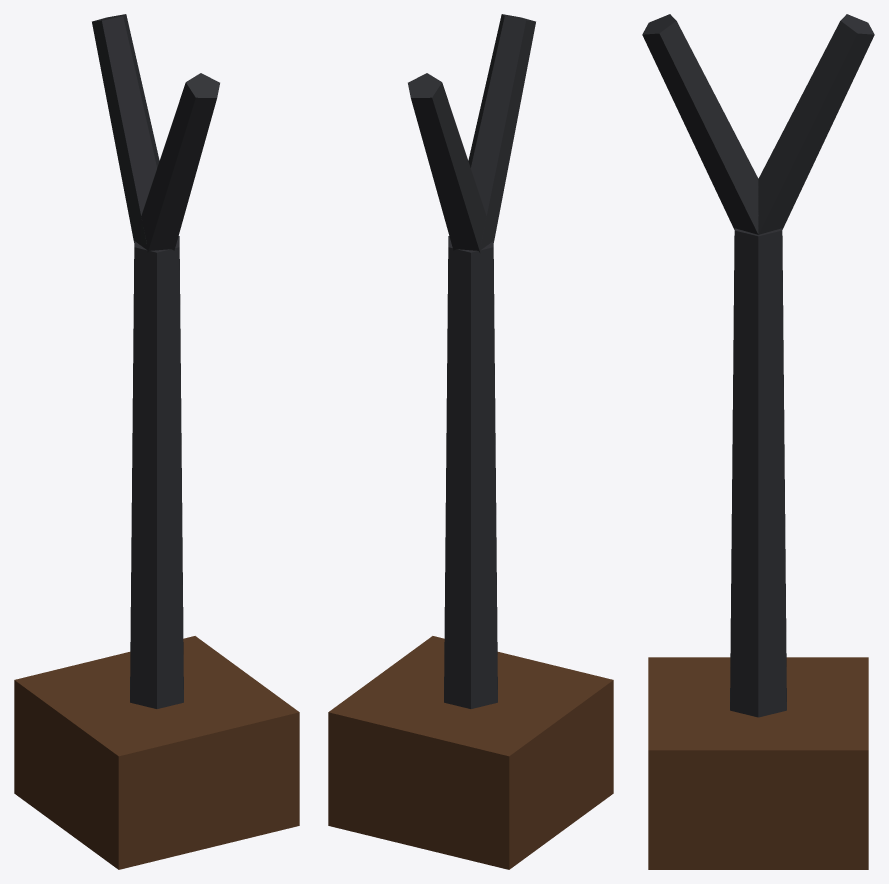
File: amelioration--fourquines.glb
The picture shows the model from 3 angles, left to right: view 1: azimuth 30°, elevation 25°; view 2: azimuth 150°, elevation 25°; view 3: azimuth 270°, elevation 25°; orthographic projection. The views are drawn at different scales.
Visible parts, largest first — view 1: fourquine; view 2: fourquine; view 3: fourquine.
Part boxes in pixels (<box>): fourquine: <box>14,14,299,869</box>; fourquine: <box>328,14,613,869</box>; fourquine: <box>642,14,874,869</box>.
Bounding box in the file's own units: 0.2 × 0.807 × 0.2112.
